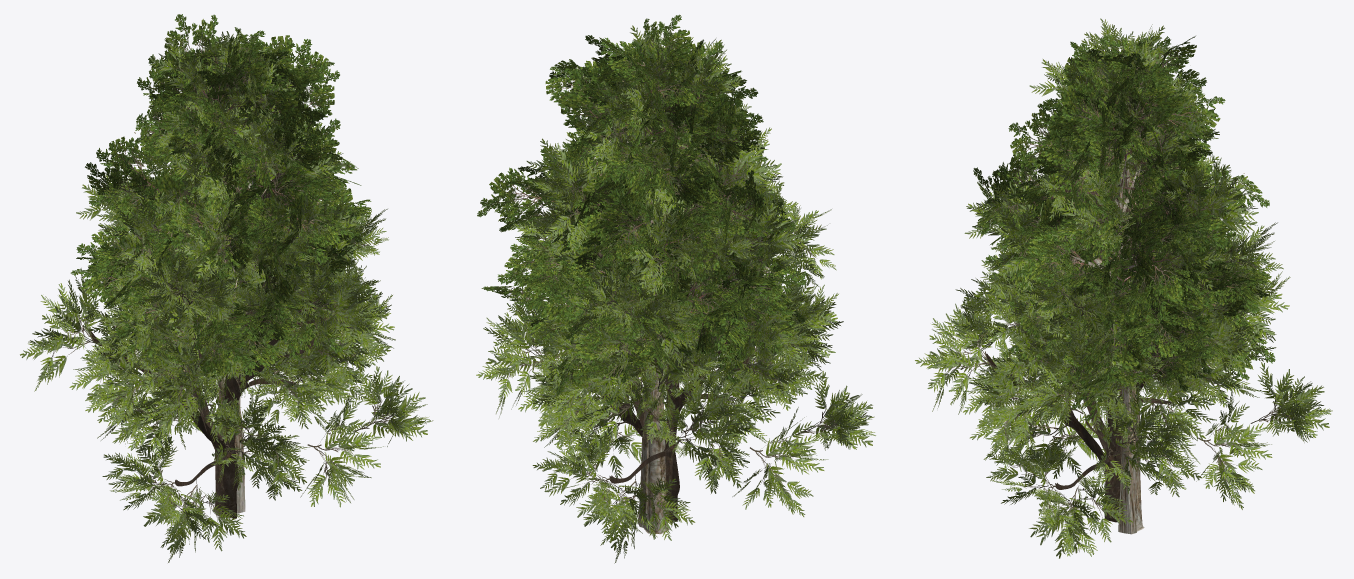
File: trees.glb
The picture shows the model from 3 angles, left to right: view 1: azimuth 30°, elevation 25°; view 2: azimuth 150°, elevation 25°; view 3: azimuth 270°, elevation 25°; orthographic projection. The views are drawn at different scales.
Parts seen in each view (by area): view 1: scene0, lp5, lp4, scene2, scene1, scene3; view 2: scene0, lp4, lp5, scene2, scene1; view 3: scene0, lp4, lp5, scene2.
Part boxes in pixels (x1,y1,x2,y2): scene0: (20, 31, 433, 562); lp5: (83, 28, 371, 515); lp4: (70, 14, 371, 513); scene2: (76, 37, 388, 430); scene1: (88, 80, 328, 518); scene3: (191, 198, 345, 511); scene0: (476, 25, 875, 563); lp4: (477, 14, 806, 528); lp5: (497, 21, 807, 534); scene2: (512, 26, 836, 522); scene1: (543, 137, 749, 520); scene0: (915, 35, 1332, 558); lp4: (973, 34, 1275, 534); lp5: (977, 35, 1269, 531); scene2: (964, 18, 1283, 519).
Size of the model in its own units: 7.21 by 10 by 7.96.
Materials: 3 (3 with a texture image).
